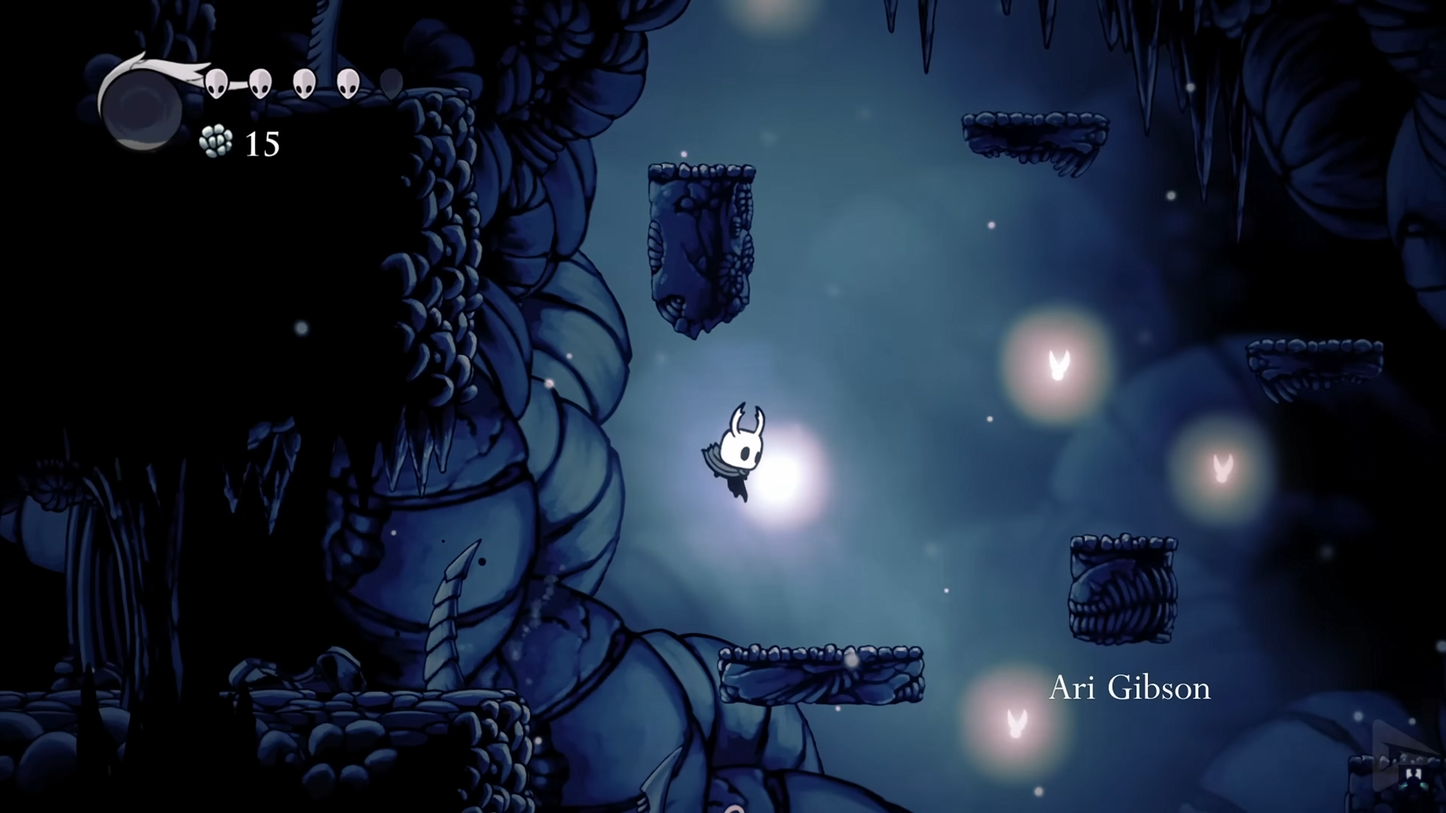HK: (705, 398, 773, 503)
